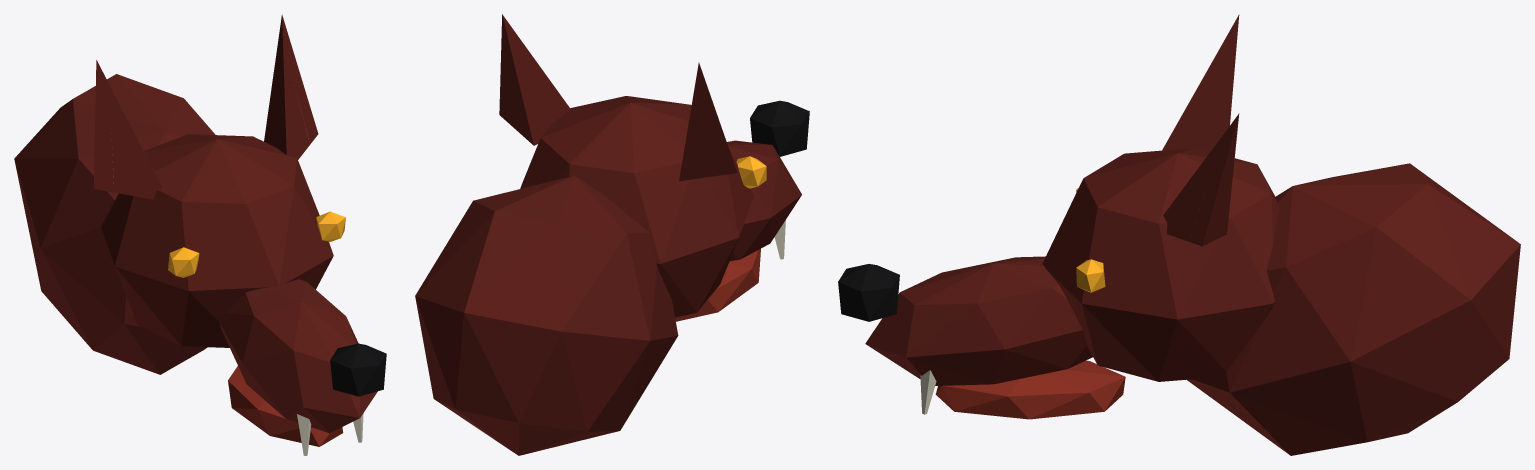
The model's file is wolf_3_head.glb.
3 renders of one model, left to right at view 1: azimuth 30°, elevation 25°; view 2: azimuth 150°, elevation 25°; view 3: azimuth 270°, elevation 25°, orthographic. The views are drawn at different scales.
Visible parts, largest first — view 1: wolf_3_head; view 2: wolf_3_head; view 3: wolf_3_head.
Boxes of the visible parts, x1,y1,x2,y2 form: wolf_3_head: [14, 14, 386, 455]; wolf_3_head: [415, 14, 809, 455]; wolf_3_head: [838, 14, 1520, 455].
Bounding box in the file's own units: 0.23 × 0.3387 × 0.5533.
